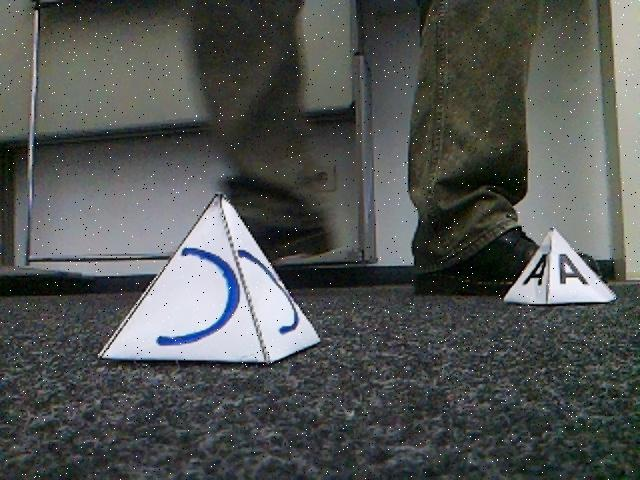A: (500, 225, 618, 305)
C: (92, 195, 325, 365)
